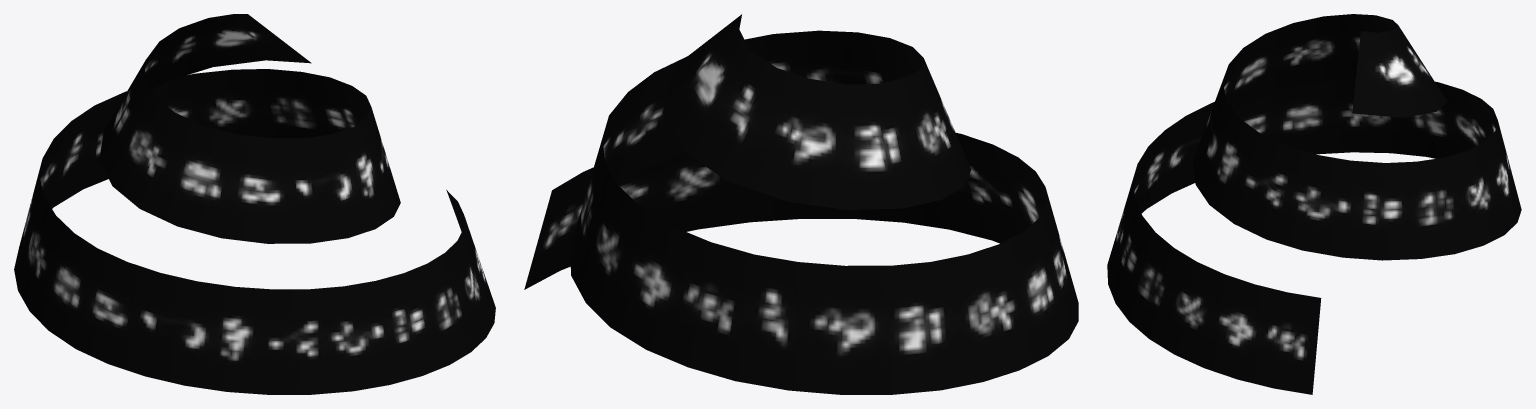
The model's file is FX_lfl_csm_boss10040_fuwen01.FBX.
3 renders of one model, left to right at view 1: azimuth 30°, elevation 25°; view 2: azimuth 150°, elevation 25°; view 3: azimuth 270°, elevation 25°, orthographic. The views are drawn at different scales.
Parts seen in each view (by area): view 1: Plane005; view 2: Plane005; view 3: Plane005.
Part boxes in pixels (x1,y1,x2,y2): Plane005: (14,14,495,394); Plane005: (524,14,1078,394); Plane005: (1107,14,1521,394).
Bounding box in the file's own units: 36.15 × 23.72 × 32.76.
Materials: 1 (1 with a texture image).
